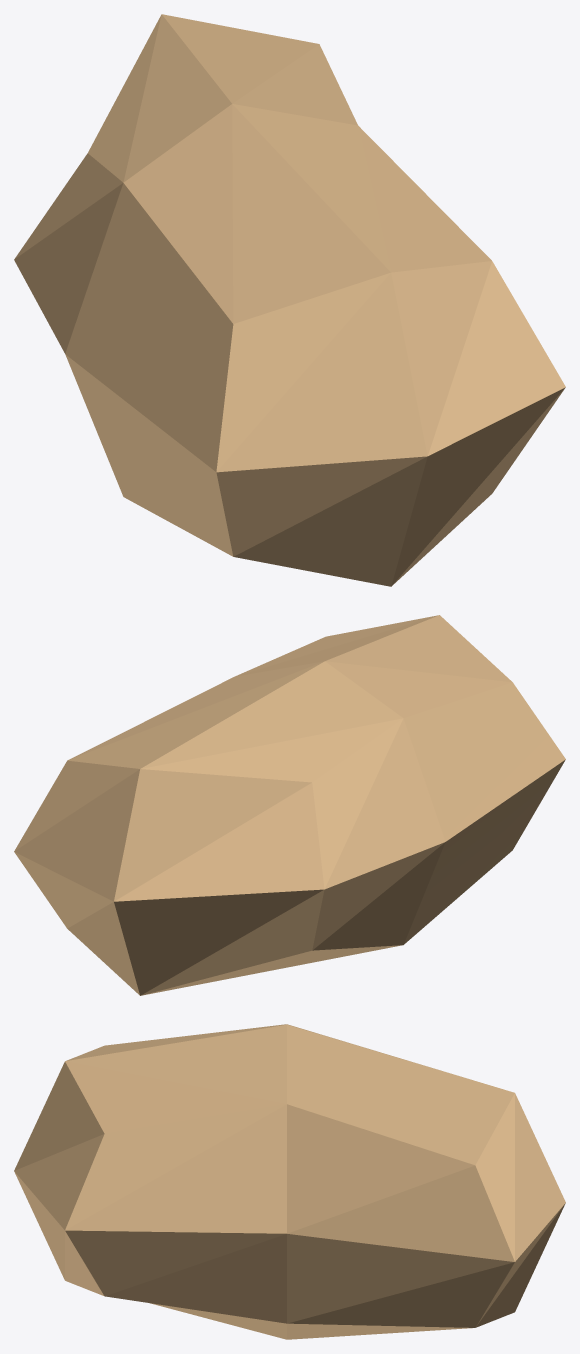
File: 04 Big_stone.FBX
3 renders of one model, top to bottom at view 1: azimuth 30°, elevation 25°; view 2: azimuth 150°, elevation 25°; view 3: azimuth 270°, elevation 25°, orthographic. The views are drawn at different scales.
Parts seen in each view (by area): view 1: Stone_lit_029; view 2: Stone_lit_029; view 3: Stone_lit_029.
Part boxes in pixels (<box>): Stone_lit_029: <box>14,14,565,586</box>; Stone_lit_029: <box>14,615,565,995</box>; Stone_lit_029: <box>14,1024,565,1339</box>.
Size of the model in its own units: 1329 by 1203 by 2057.
